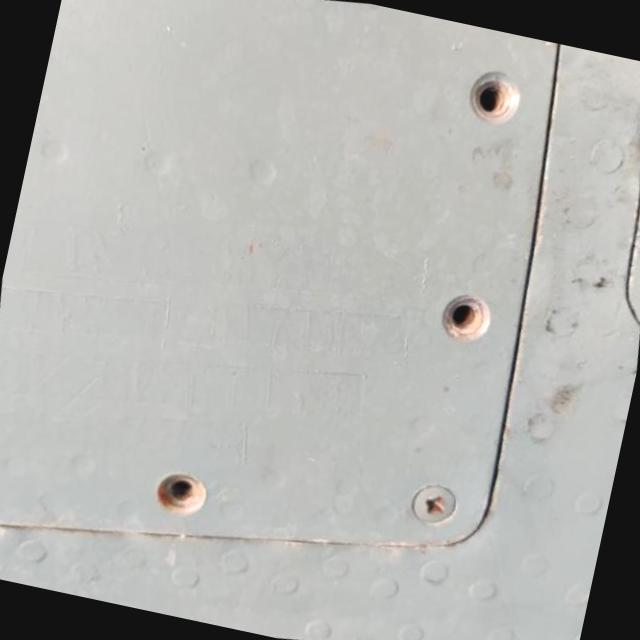Missing Fastener: (462, 64, 533, 138), (150, 464, 217, 525), (435, 288, 498, 350)
